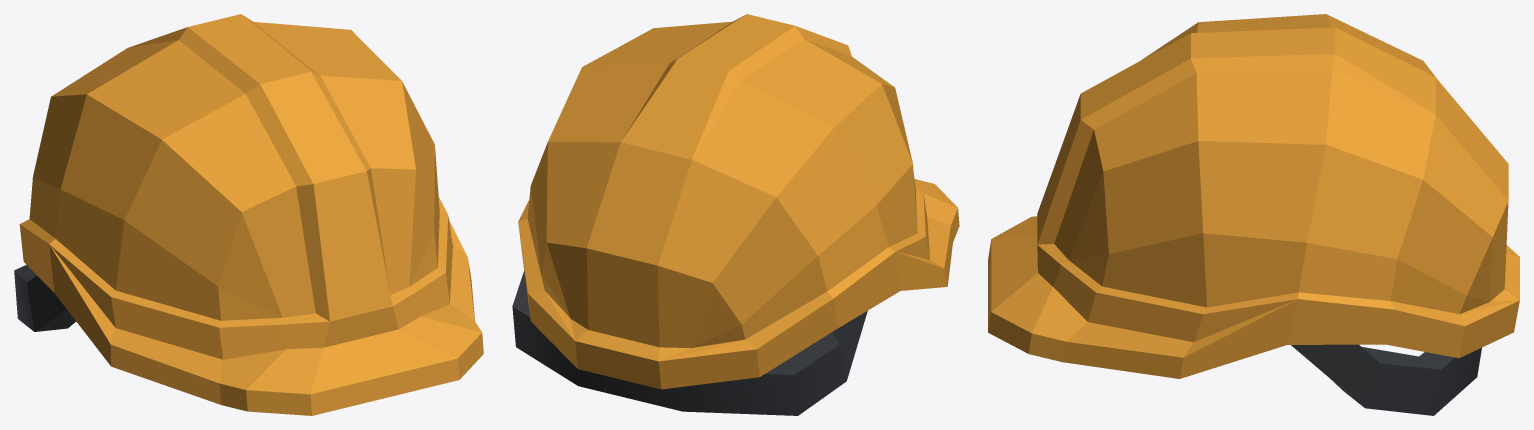
The model's file is SM_Chr_Attach_Helmet_01.glb.
3 renders of one model, left to right at view 1: azimuth 30°, elevation 25°; view 2: azimuth 150°, elevation 25°; view 3: azimuth 270°, elevation 25°, orthographic. The views are drawn at different scales.
Parts seen in each view (by area): view 1: SM_Chr_Attach_Helmet_01; view 2: SM_Chr_Attach_Helmet_01; view 3: SM_Chr_Attach_Helmet_01.
Part boxes in pixels (left/top/right/bottom): SM_Chr_Attach_Helmet_01: left=14, top=14, right=483, bottom=415; SM_Chr_Attach_Helmet_01: left=512, top=14, right=959, bottom=415; SM_Chr_Attach_Helmet_01: left=988, top=14, right=1519, bottom=415.
Size of the model in its own units: 0.2963 by 0.2326 by 0.3663.
1 material, 1 textured.
